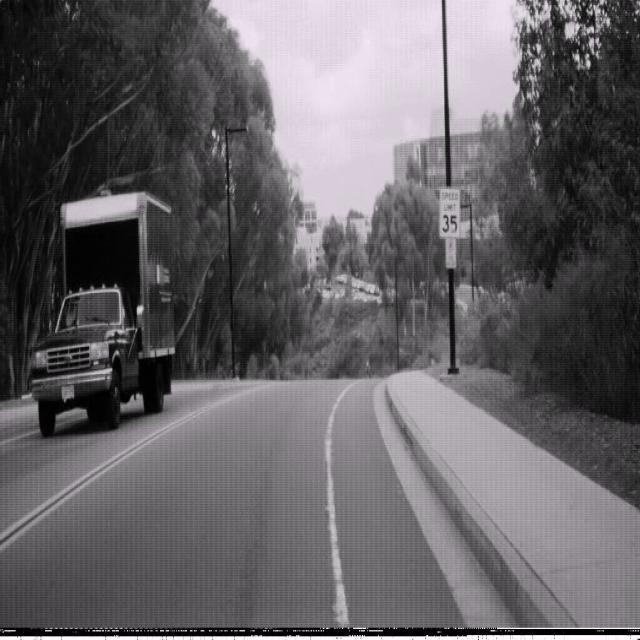speedLimit35: (438, 185, 461, 239)
